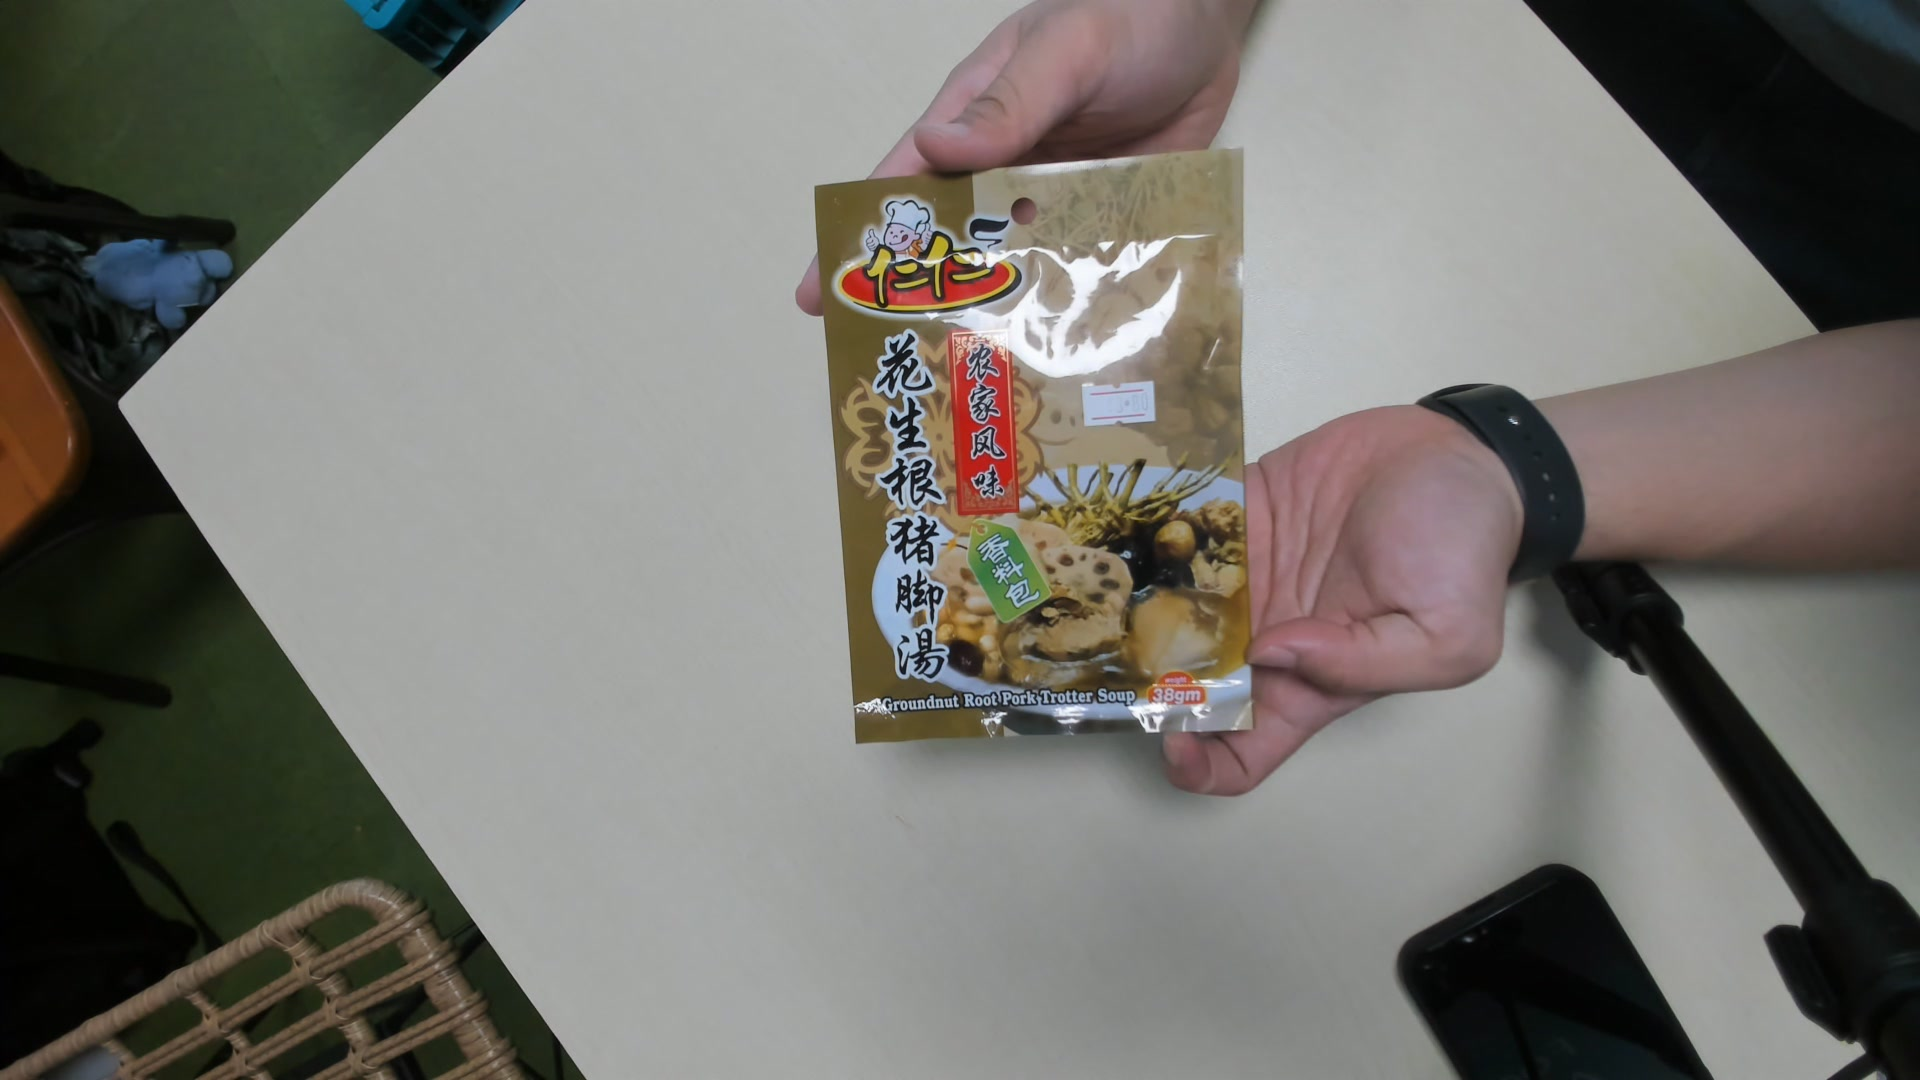OtherSauceDressing_0-99g_NonHalal_NonHealthy: (808, 146, 1253, 749)
